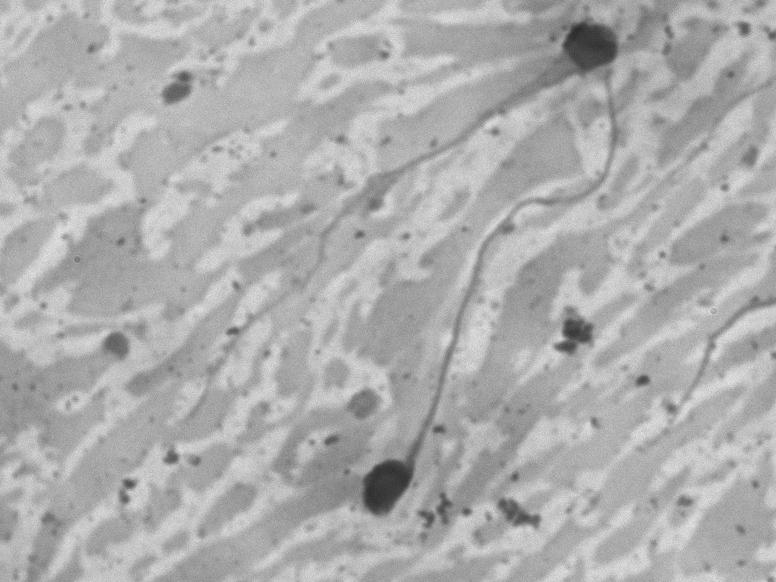Abnormal: (157, 8, 629, 452), (298, 232, 645, 542)
